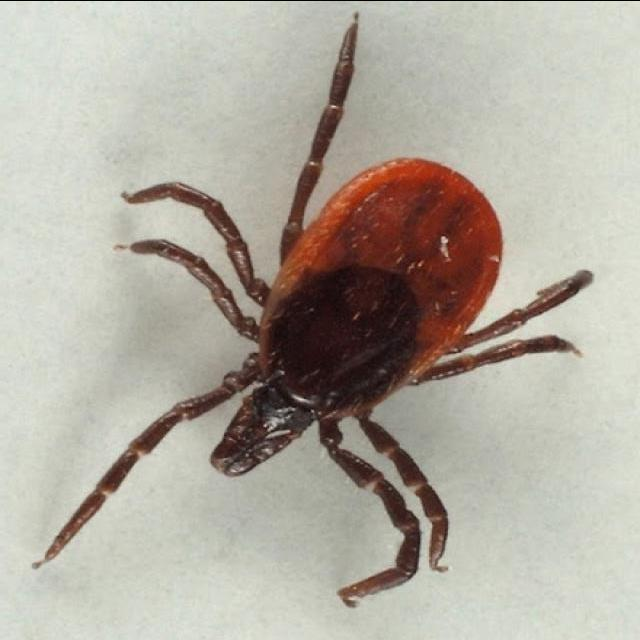Ixodes Ricinus-F: (39, 32, 592, 607)
